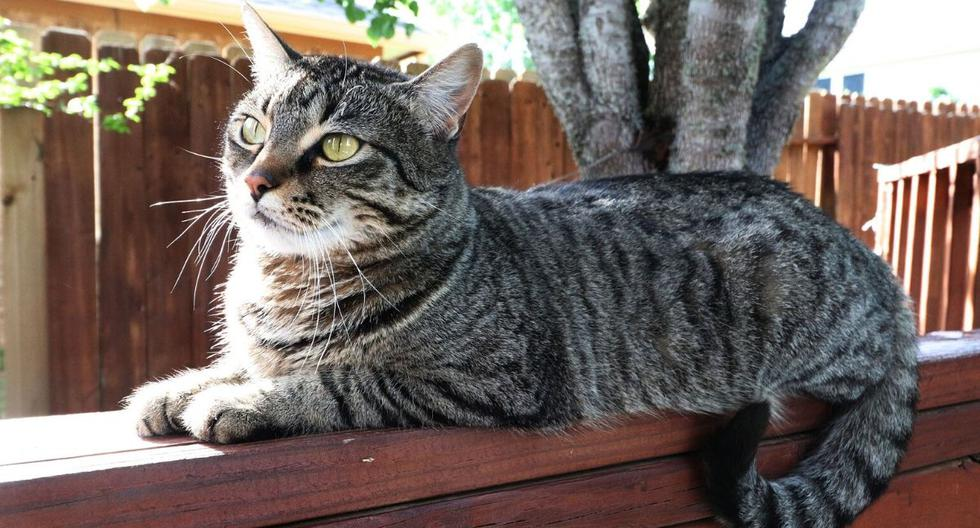cat: (124, 42, 909, 443)
